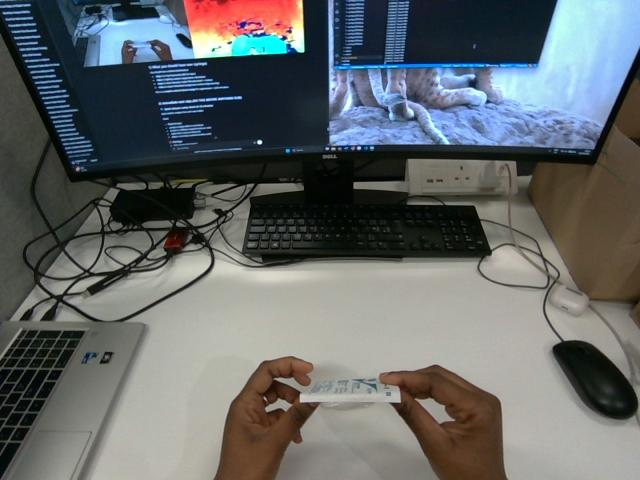gauze: (300, 378, 400, 402)
